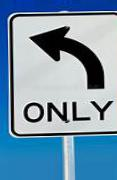left: (23, 22, 114, 94)
